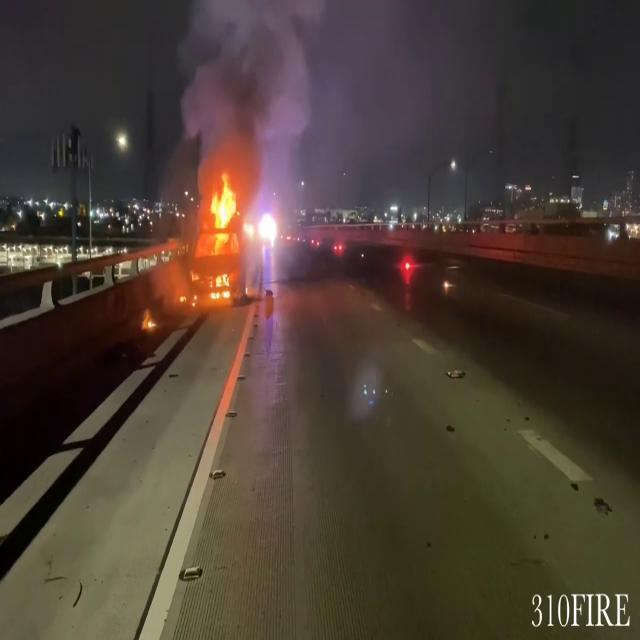Fire: (204, 167, 242, 252)
Smoke: (172, 0, 314, 181)
